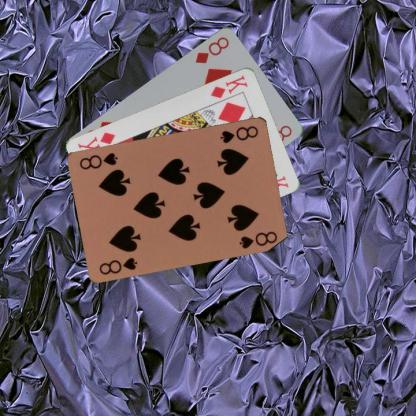8d: (192, 34, 230, 64)
8s: (218, 122, 260, 145), (96, 254, 138, 276)
Kd: (207, 72, 249, 100)
